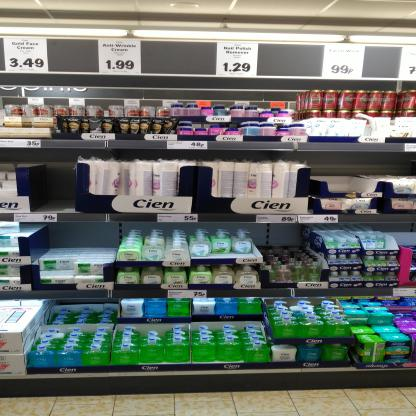Void: (312, 154, 413, 174), (40, 163, 69, 211), (55, 226, 111, 246), (255, 228, 297, 246)
